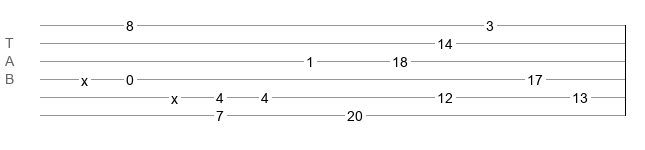0: (126, 72, 134, 82)
1: (306, 54, 314, 64)
12: (437, 90, 453, 100)
13: (572, 90, 588, 100)
14: (437, 36, 453, 46)
17: (527, 72, 543, 82)
18: (392, 54, 408, 64)
20: (347, 108, 363, 118)
3: (486, 18, 494, 28)
4: (216, 90, 224, 100), (261, 90, 269, 100)
7: (216, 108, 224, 118)
8: (126, 18, 134, 28)
x: (81, 73, 88, 81), (171, 91, 178, 99)
